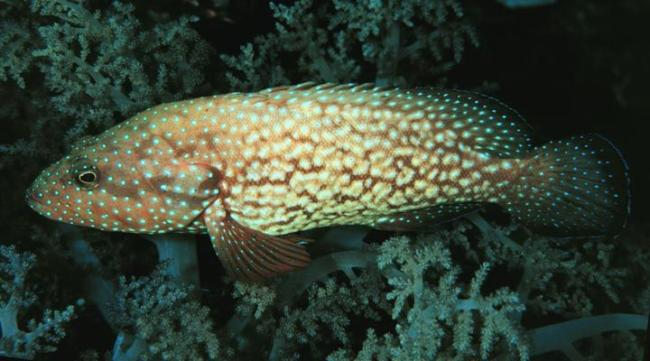fish: (25, 80, 631, 280)
